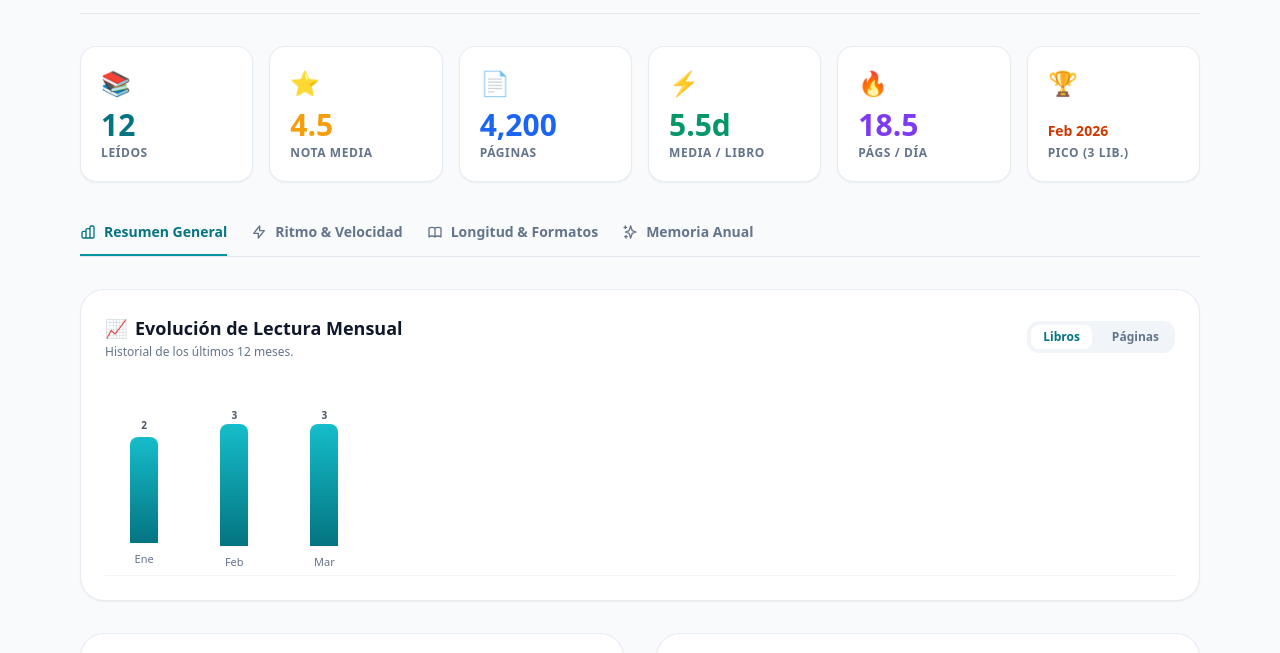
Test: ReadingStats Component › switches to length tab and displays length tiers and reading formats
# Cambiar a "Longitud & Formatos"
Click the tab "Longitud & Formatos" at (512, 235), box top-left (427, 214), bottom-right (598, 256)
(page scrolled)
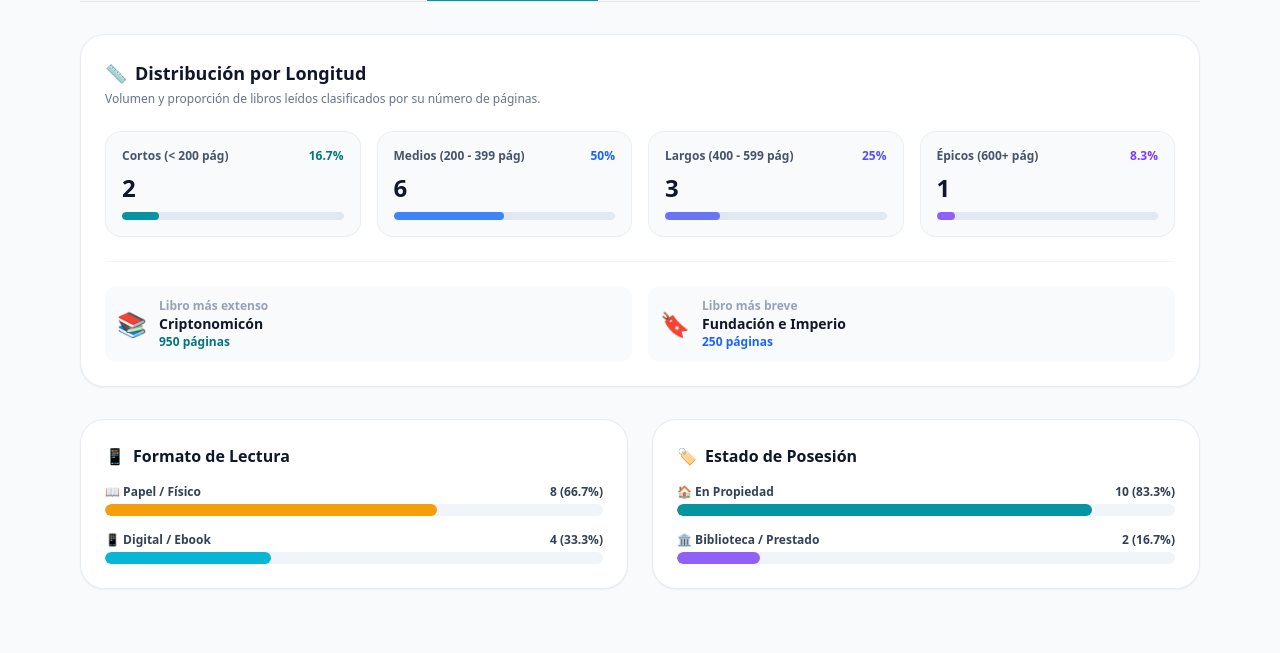
Expected: the heading "📏 Distribución por Longitud" is shown, top-left (105, 61), bottom-right (366, 85)
Expected: the text "Cortos (< 200 pág)" is shown, top-left (122, 148), bottom-right (228, 164)
Expected: the text "Medios (200 - 399 pág)" is shown, top-left (394, 148), bottom-right (525, 164)
